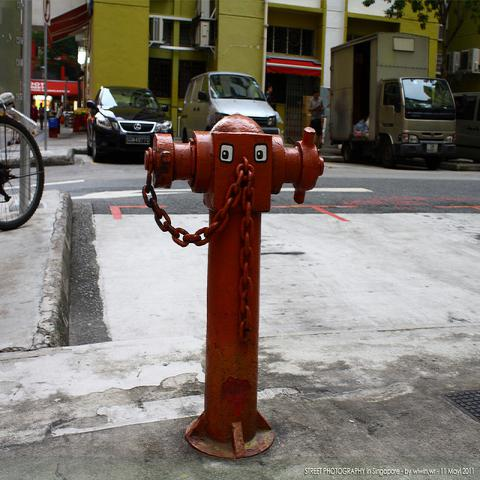car: (86, 84, 173, 162), (178, 71, 277, 139)
truck: (332, 34, 458, 170)
